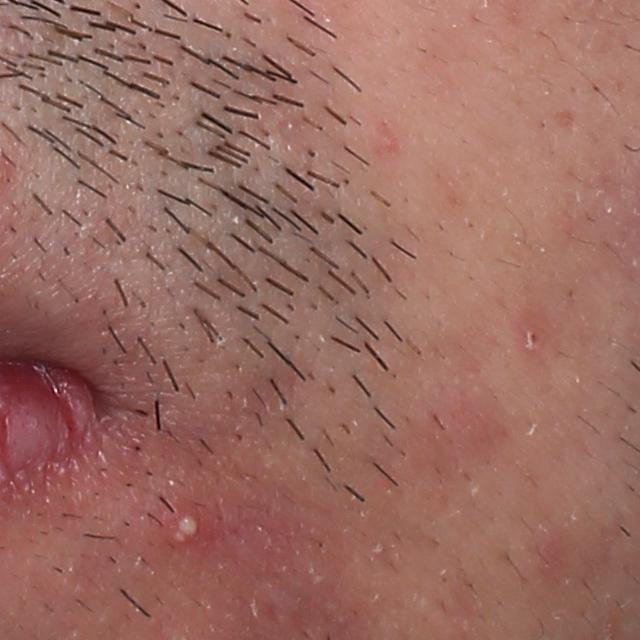pustule: (161, 502, 210, 550)
